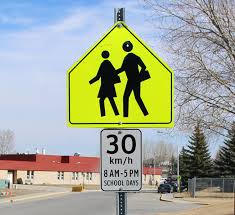slow: (65, 20, 175, 129)
